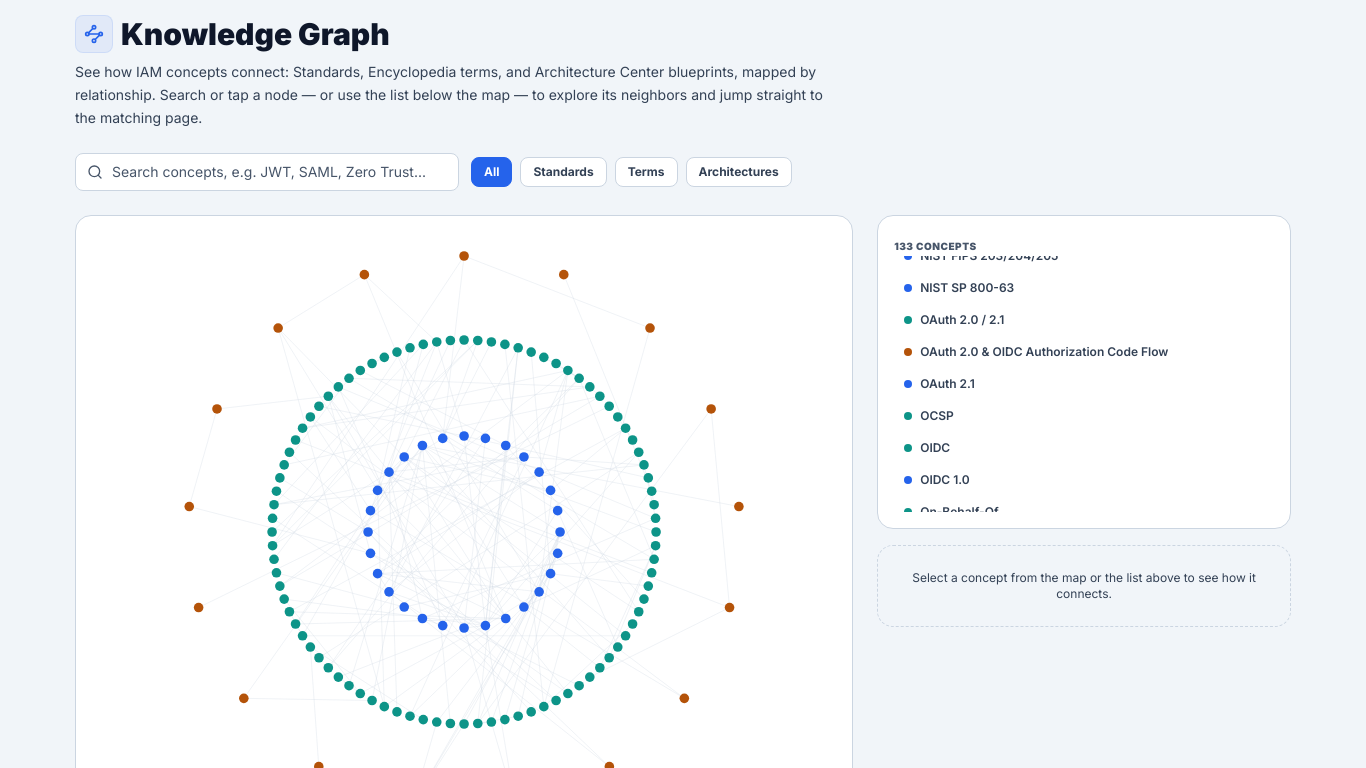
Scenario: KnowledgeGraph page › the "Clear selection" button returns to the placeholder state
(page scrolled)
Step 1. Click the button with aria-label "open oauth 2.1 details" → [948, 384], box [894, 370, 1270, 398]
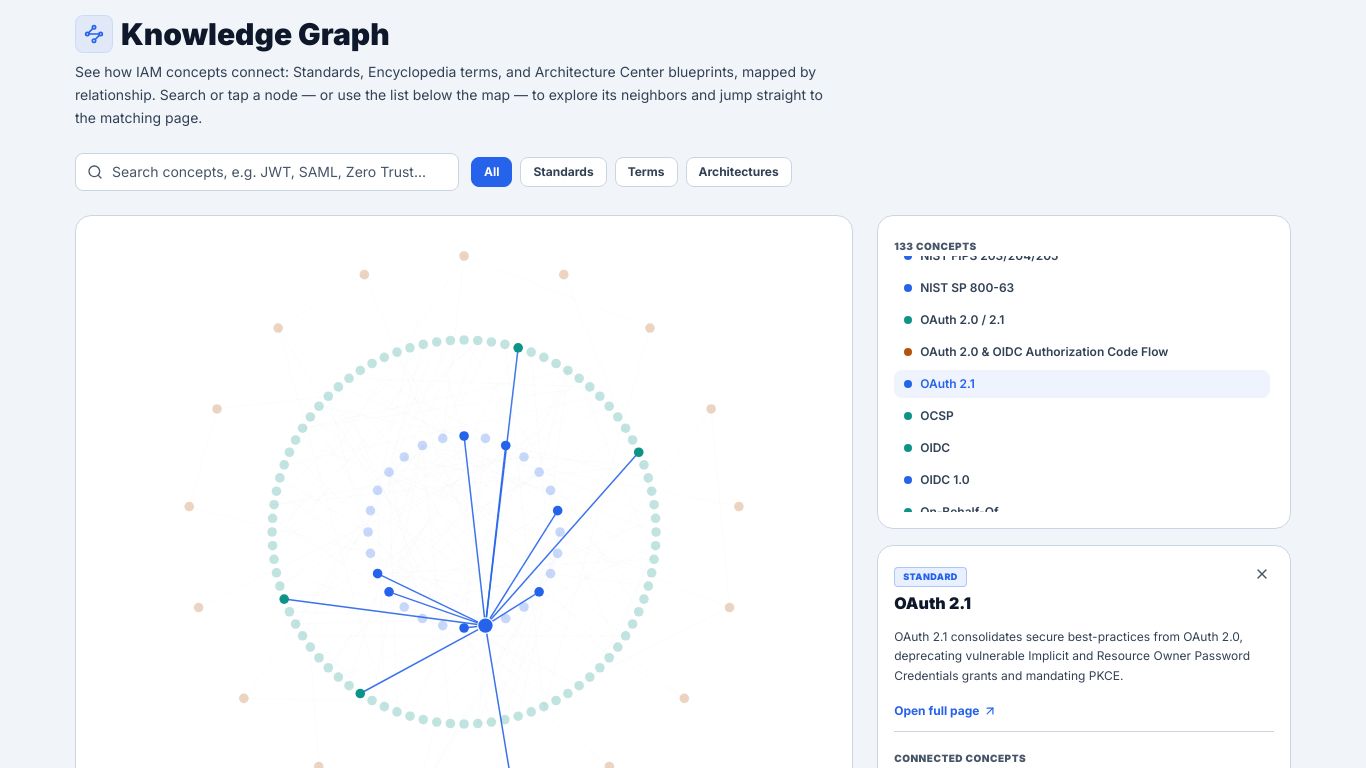
Step 2. Click the button named "clear selection" → [1262, 574], box [1250, 562, 1274, 586]
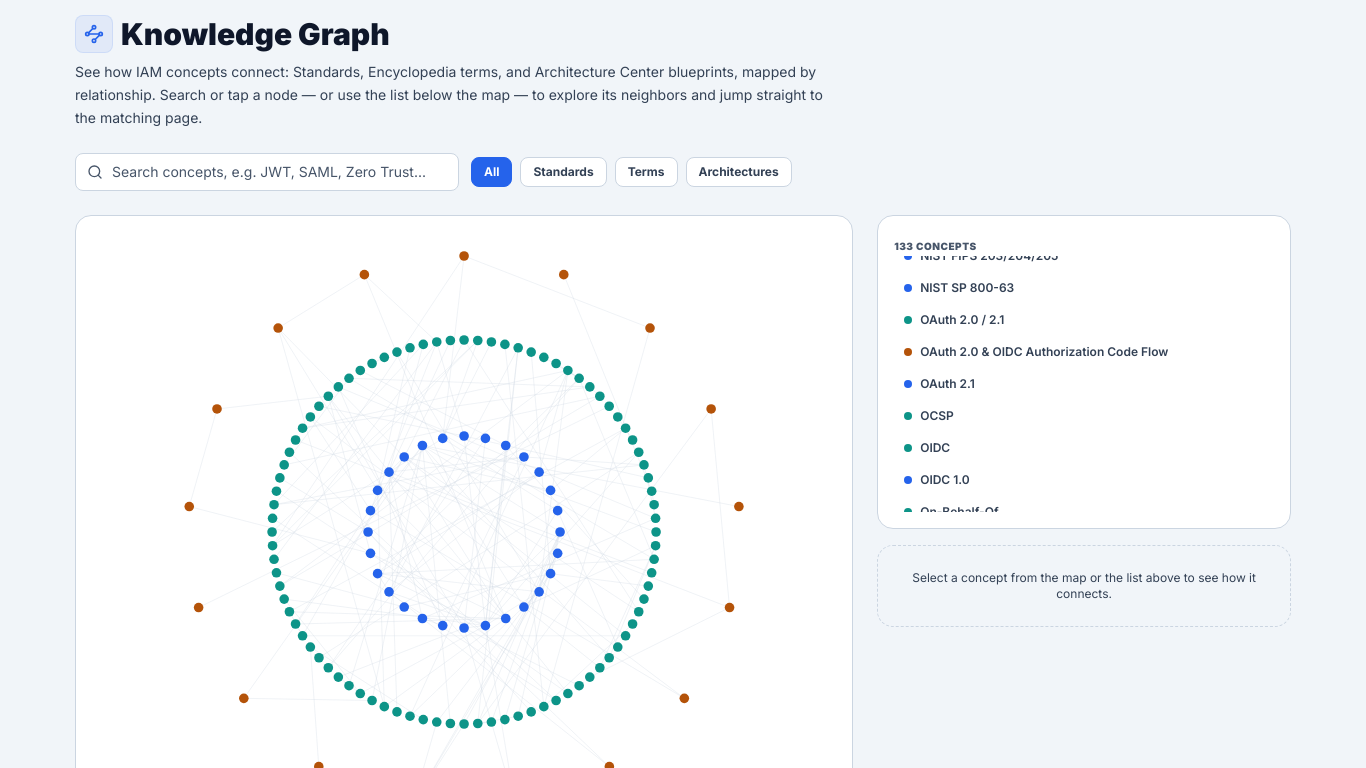
Result: the text "Select a concept" is shown at [912, 570, 1256, 601]
